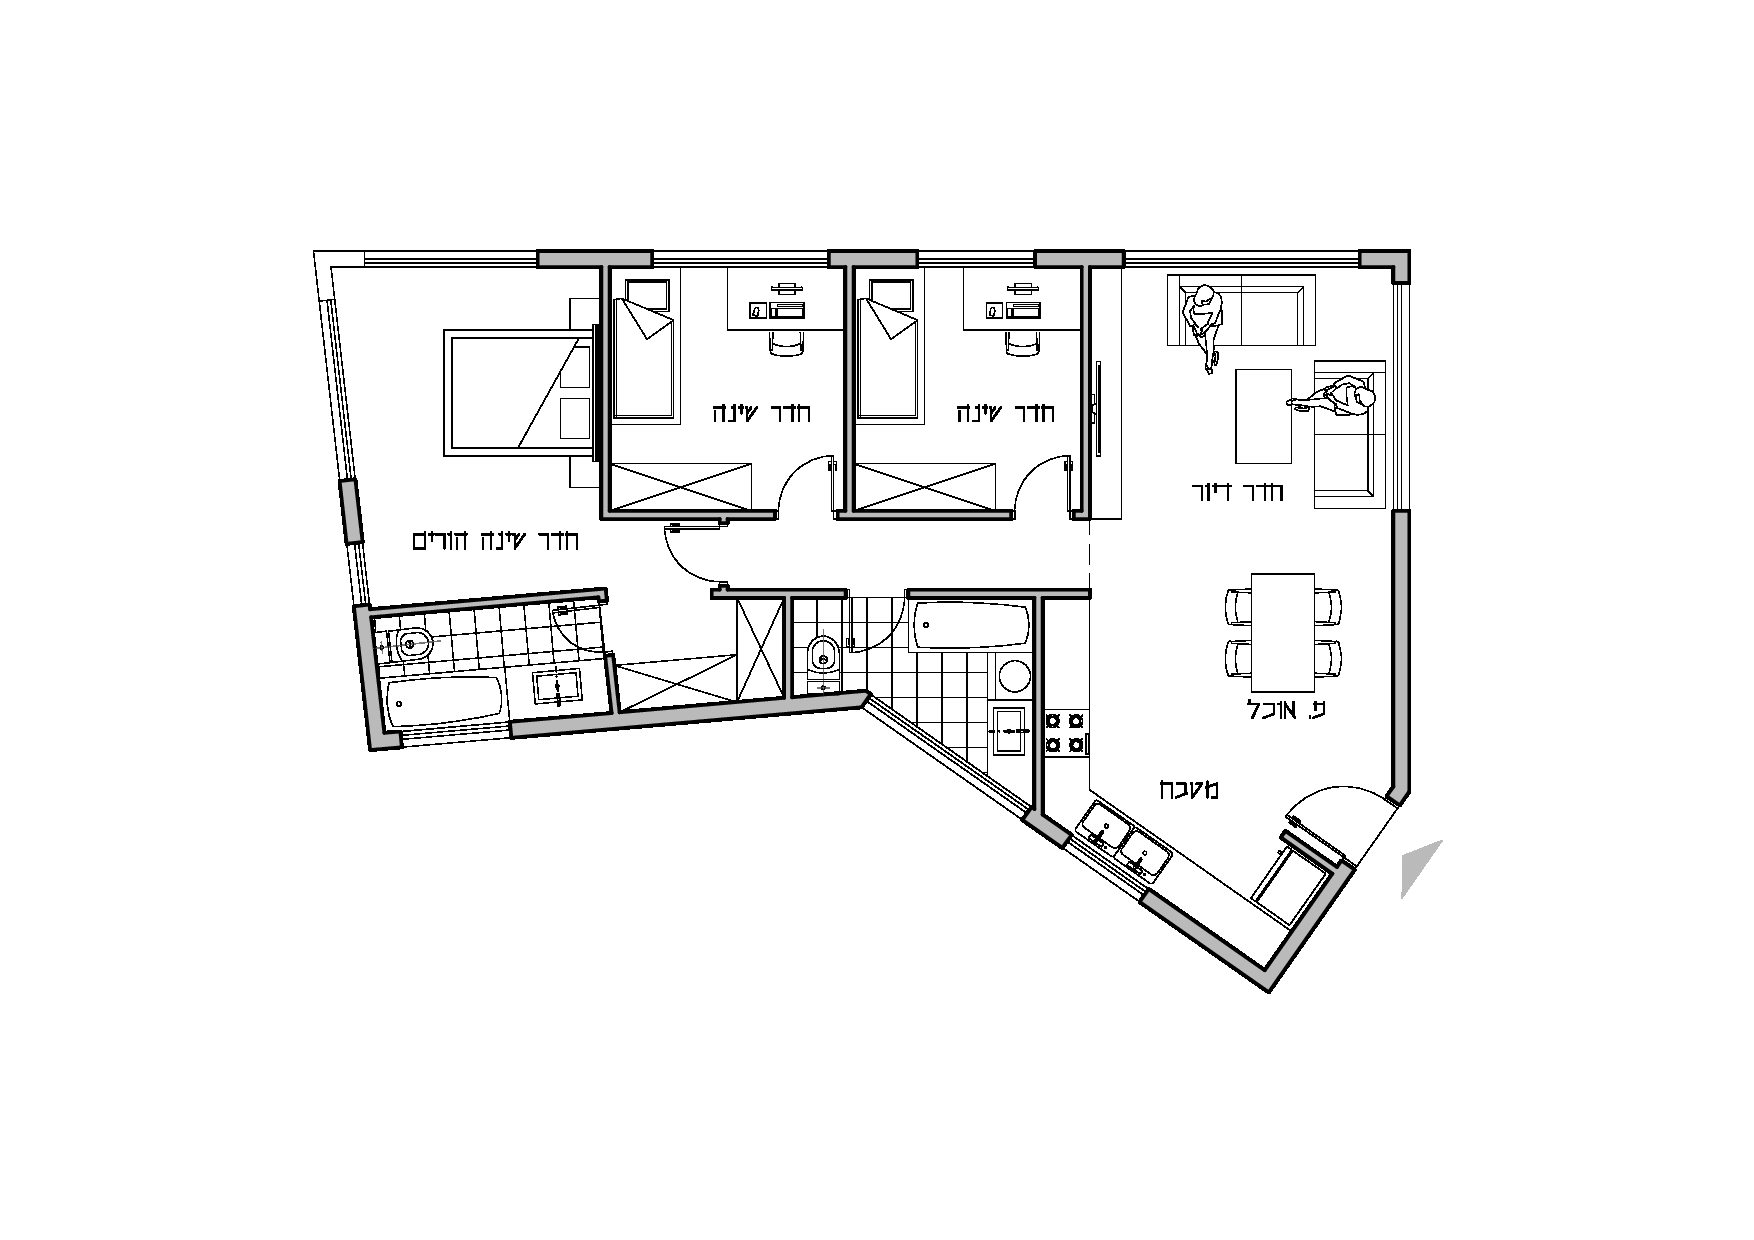door: (1282, 782, 1384, 825), (780, 443, 836, 510), (651, 531, 721, 582), (1012, 456, 1071, 510)
wall: (1397, 513, 1410, 797), (544, 256, 651, 266), (1037, 254, 1123, 264), (341, 488, 358, 538), (829, 256, 921, 266), (1363, 254, 1412, 267)
